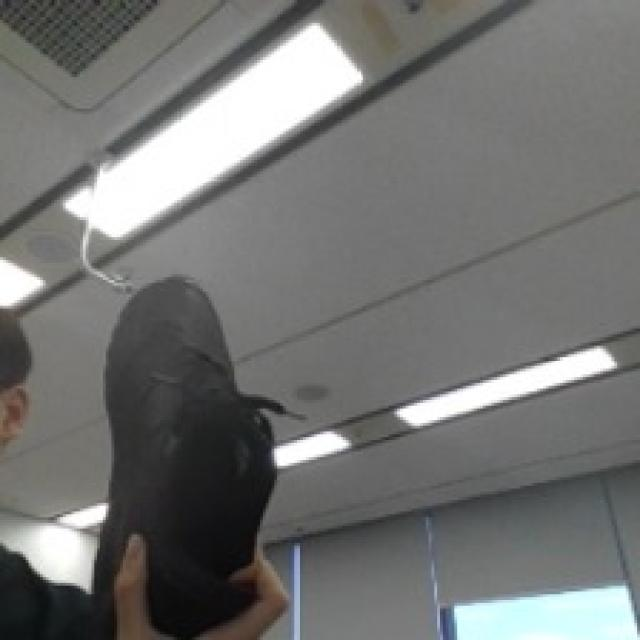shoes: (54, 240, 346, 640)
